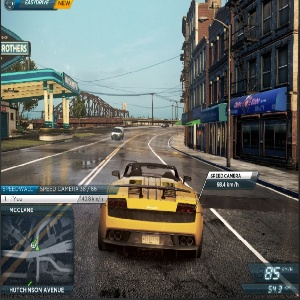ad: (1, 42, 30, 53)
building: (207, 9, 300, 165), (181, 3, 225, 162), (1, 67, 74, 137)
lamp post: (197, 16, 245, 170)
vehicle: (109, 124, 125, 140), (160, 122, 170, 128)
